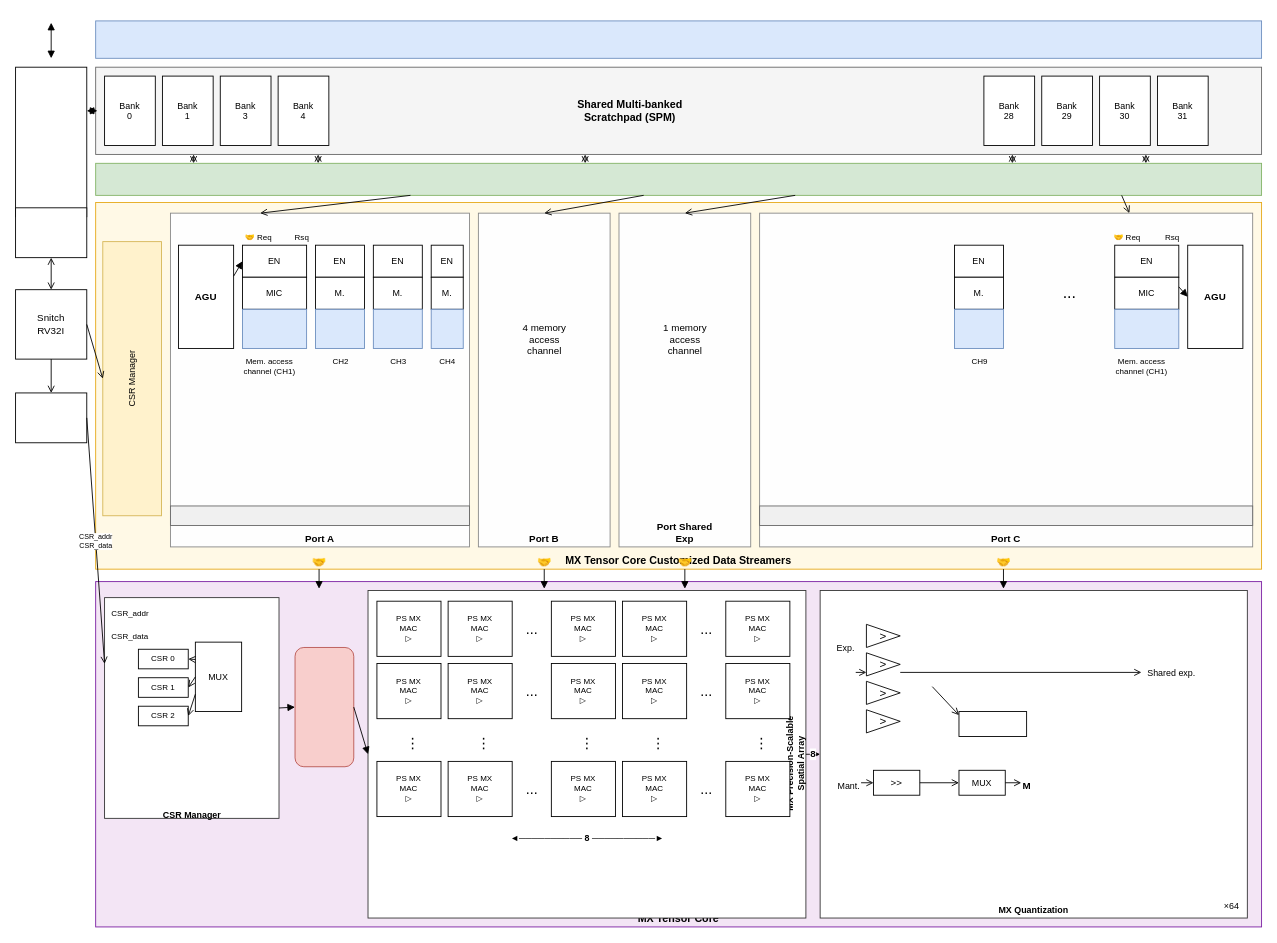
Some shapes in this 1277 by 943 pixel diagram are drawn without their labels. Each missing label, with the centre of its shape:
"AXI/DRAM" goes at point 678,39.
"Data Concatenation" goes at point 319,515.
"Data Spliting" goes at point 1006,515.
"DMA" goes at point 51,141.
"E×64" goes at point 992,723.
"FSM" goes at point 324,707.
"Fully Connected Crossbar" goes at point 678,178.
"ICache" goes at point 51,232.
"Periph." goes at point 51,417.
